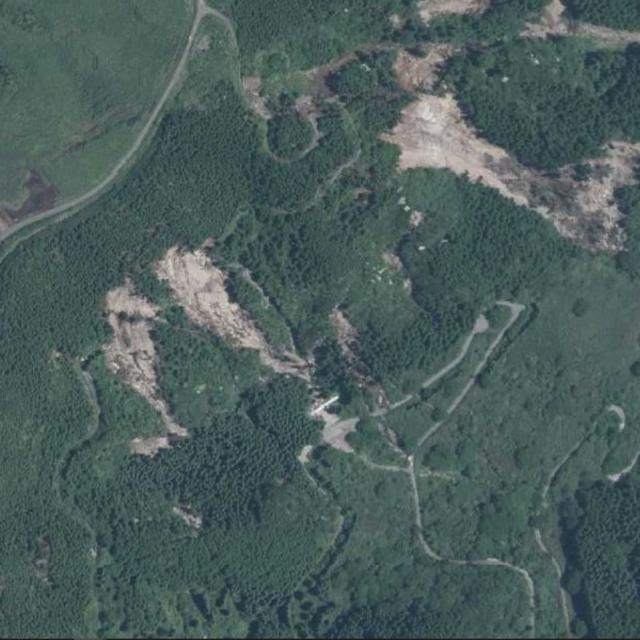landslide: (383, 62, 640, 252), (152, 247, 311, 383), (102, 278, 188, 456), (323, 415, 359, 453)
